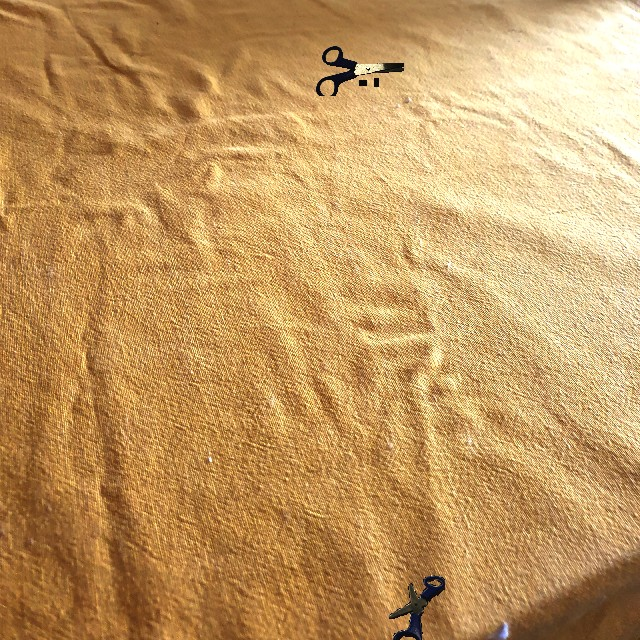scissors: (316, 46, 404, 96), (389, 575, 445, 640)
